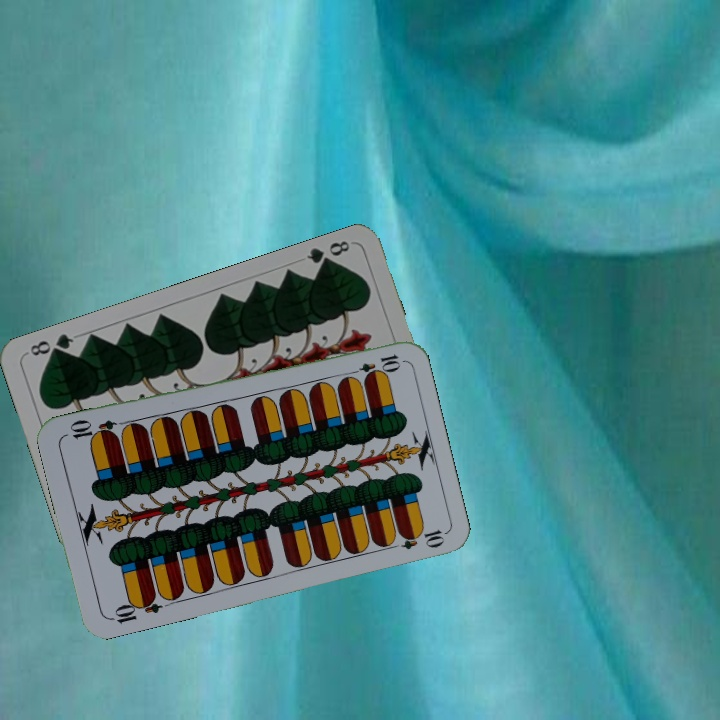E10: (106, 591, 164, 626), (344, 350, 403, 380)
G8: (302, 236, 353, 272)
